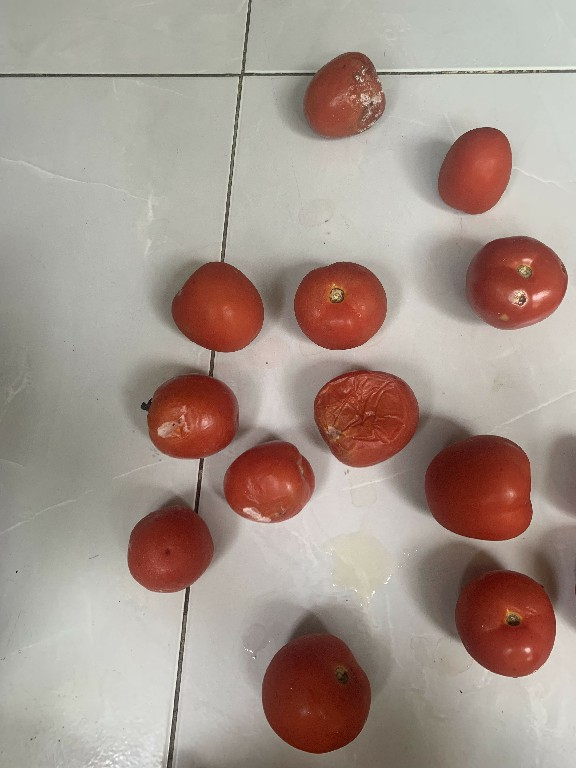NG: (310, 366, 425, 474), (457, 230, 570, 333), (138, 367, 241, 460), (218, 438, 320, 527), (301, 49, 385, 143)
OK: (254, 625, 388, 753), (418, 433, 540, 547), (452, 564, 561, 683), (163, 257, 267, 358), (289, 259, 392, 353), (124, 501, 214, 595), (434, 121, 513, 217)
